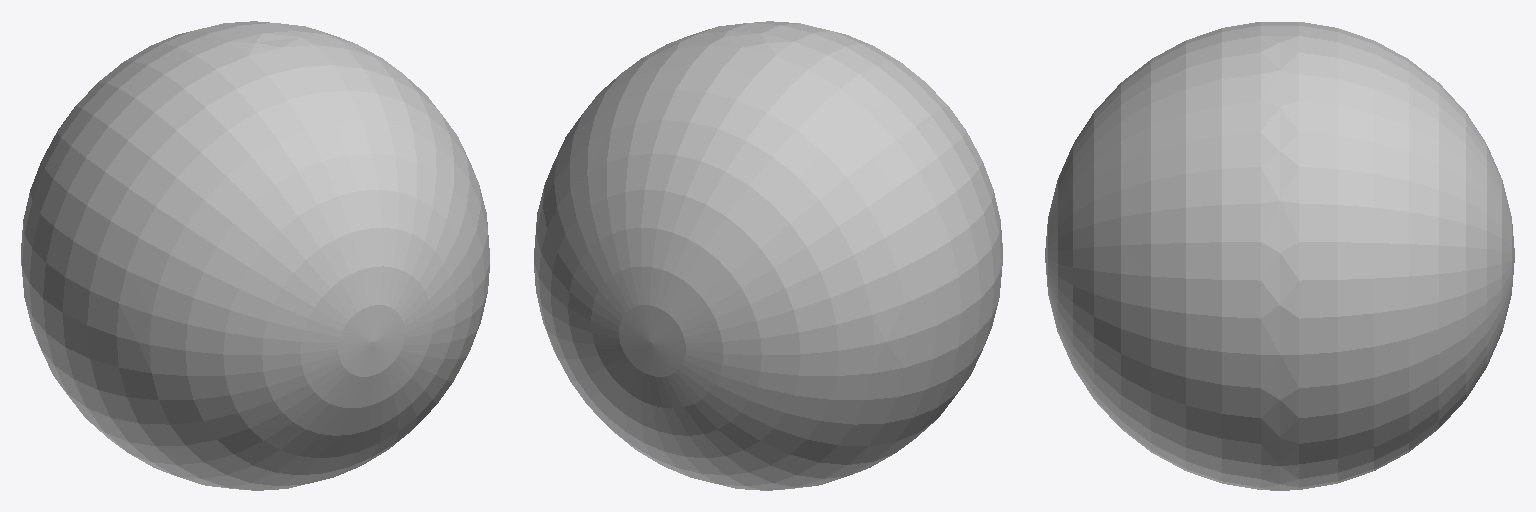
The model's file is ball.obj.
3 views of the same model, side by side, from view 1: azimuth 30°, elevation 25°; view 2: azimuth 150°, elevation 25°; view 3: azimuth 270°, elevation 25° (orthographic).
Size of the model in its own units: 9.98 by 10 by 10.